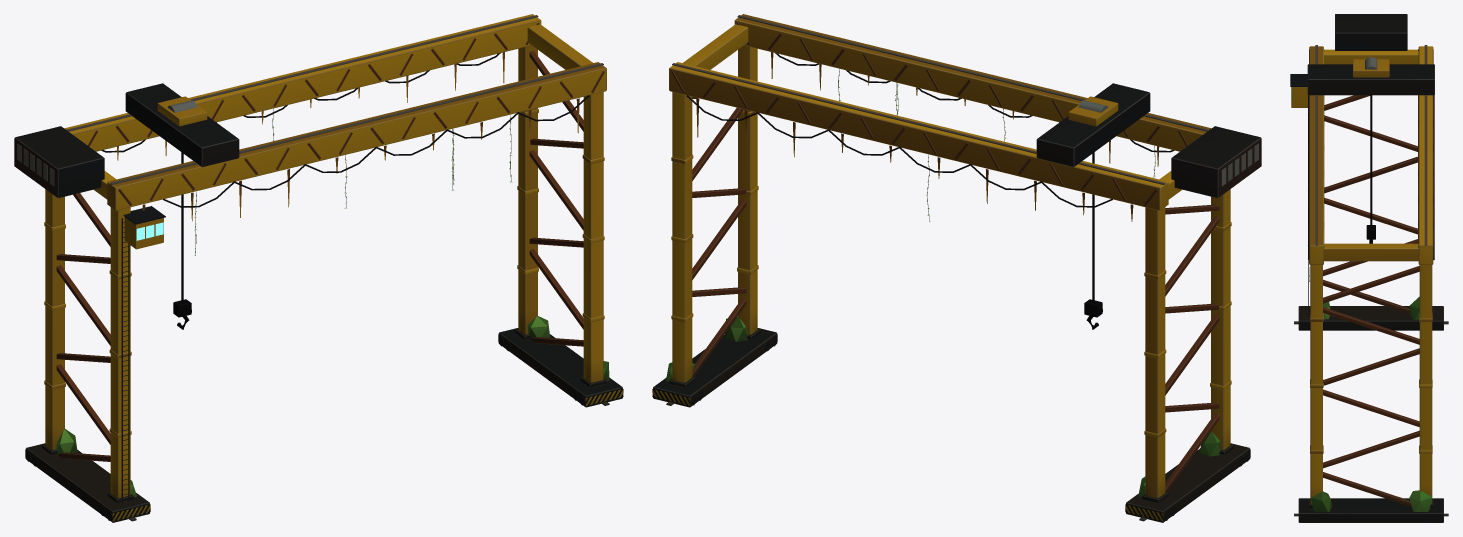
File: gantry_crane.glb
3 views of the same model, side by side, from view 1: azimuth 30°, elevation 25°; view 2: azimuth 150°, elevation 25°; view 3: azimuth 270°, elevation 25° (orthographic). The views are drawn at different scales.
Parts seen in each view (by area): view 1: Frame, Trolley; view 2: Frame, Trolley; view 3: Frame, Trolley.
Boxes of the visible parts, bbox=[...] form: Frame: bbox=[14, 14, 623, 522]; Trolley: bbox=[125, 83, 239, 329]; Frame: bbox=[652, 14, 1261, 522]; Trolley: bbox=[1036, 83, 1150, 329]; Frame: bbox=[1290, 14, 1448, 522]; Trolley: bbox=[1307, 57, 1434, 243].
Size of the model in its own units: 57.59 by 36.54 by 17.4.
